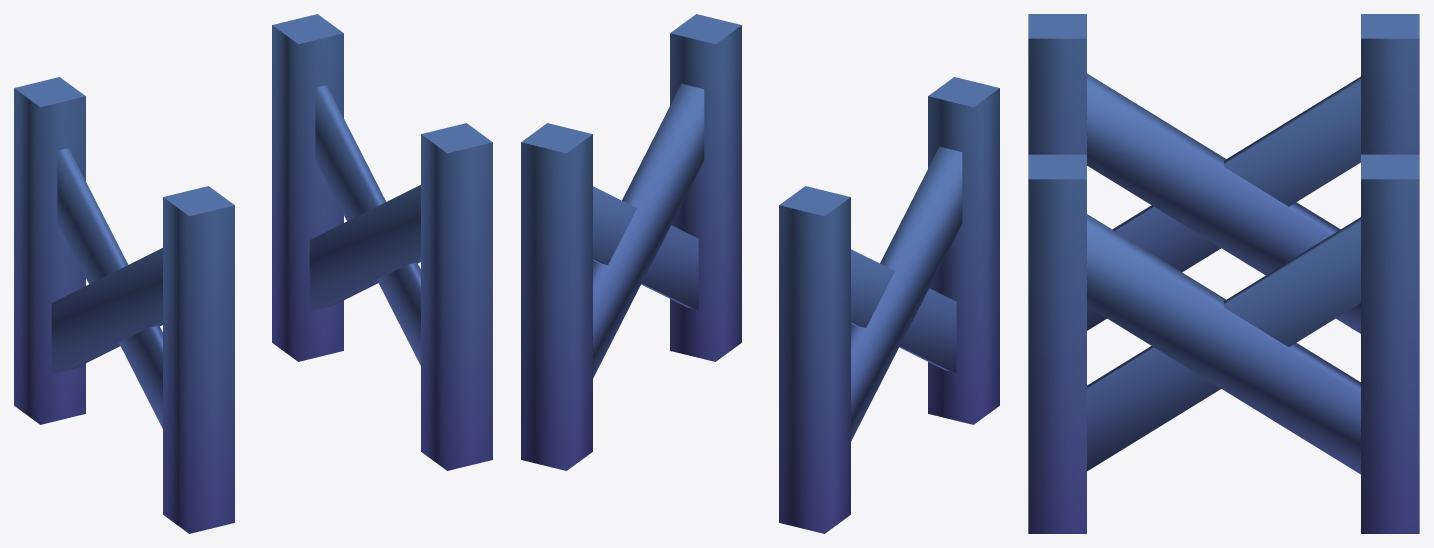
File: supports-diagonal.glb
The picture shows the model from 3 angles, left to right: view 1: azimuth 30°, elevation 25°; view 2: azimuth 150°, elevation 25°; view 3: azimuth 270°, elevation 25°; orthographic projection. The views are drawn at different scales.
Parts seen in each view (by area): view 1: supports-diagonal; view 2: supports-diagonal; view 3: supports-diagonal.
Part boxes in pixels (left/top/right/bottom): supports-diagonal: left=14, top=14, right=492, bottom=533; supports-diagonal: left=521, top=14, right=999, bottom=533; supports-diagonal: left=1028, top=14, right=1419, bottom=533.
Bounding box in the file's own units: 1 × 1 × 1.
